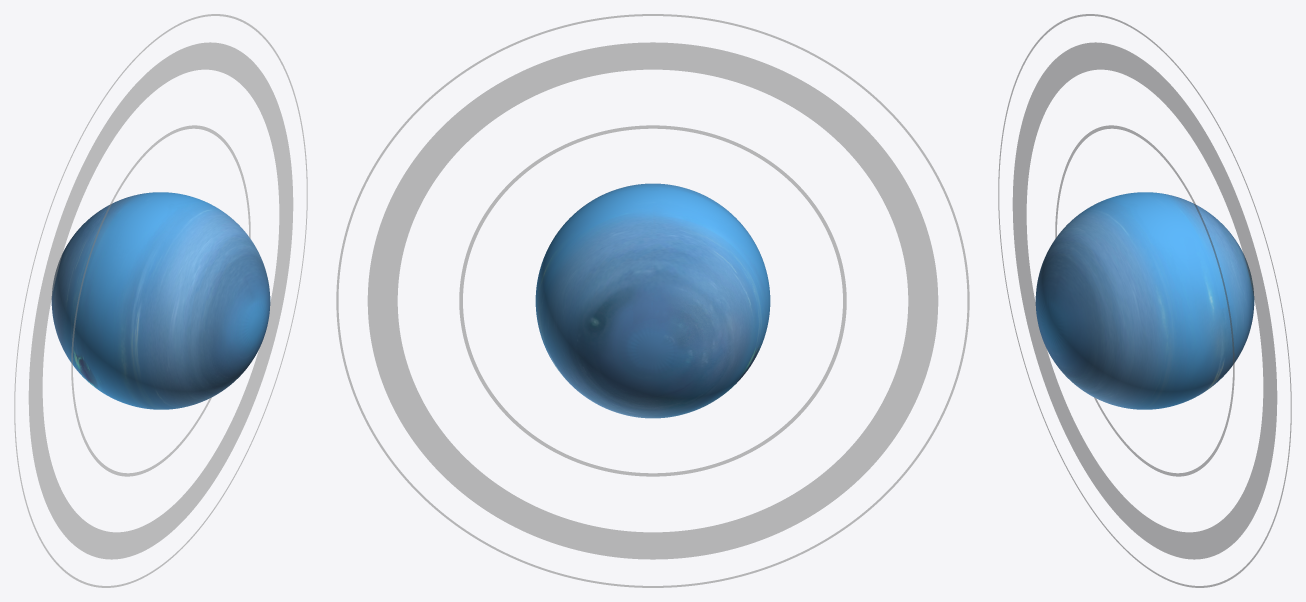
Rendered from Neptune.glb.
3 views of the same model, side by side, from view 1: azimuth 30°, elevation 25°; view 2: azimuth 150°, elevation 25°; view 3: azimuth 270°, elevation 25° (orthographic). The views are drawn at different scales.
Visible parts, largest first — view 1: Asset3DLoader.sceneRoot; view 2: Asset3DLoader.sceneRoot; view 3: Asset3DLoader.sceneRoot.
Boxes of the visible parts, box(x1,y1,x2,y2) form: Asset3DLoader.sceneRoot: box(14, 14, 307, 587); Asset3DLoader.sceneRoot: box(336, 14, 969, 587); Asset3DLoader.sceneRoot: box(998, 14, 1291, 587).
Bounding box in the file's own units: 849 × 980 × 490.
2 materials, 1 textured.
